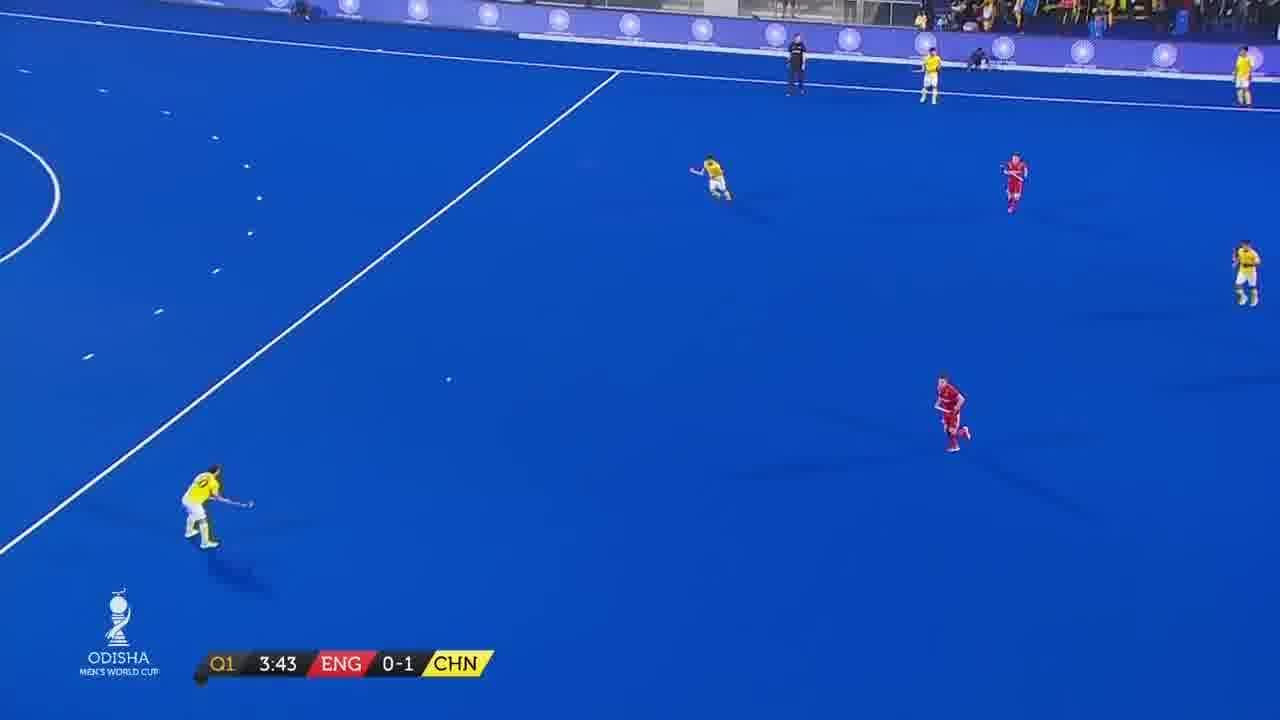ball: (442, 374, 459, 390)
